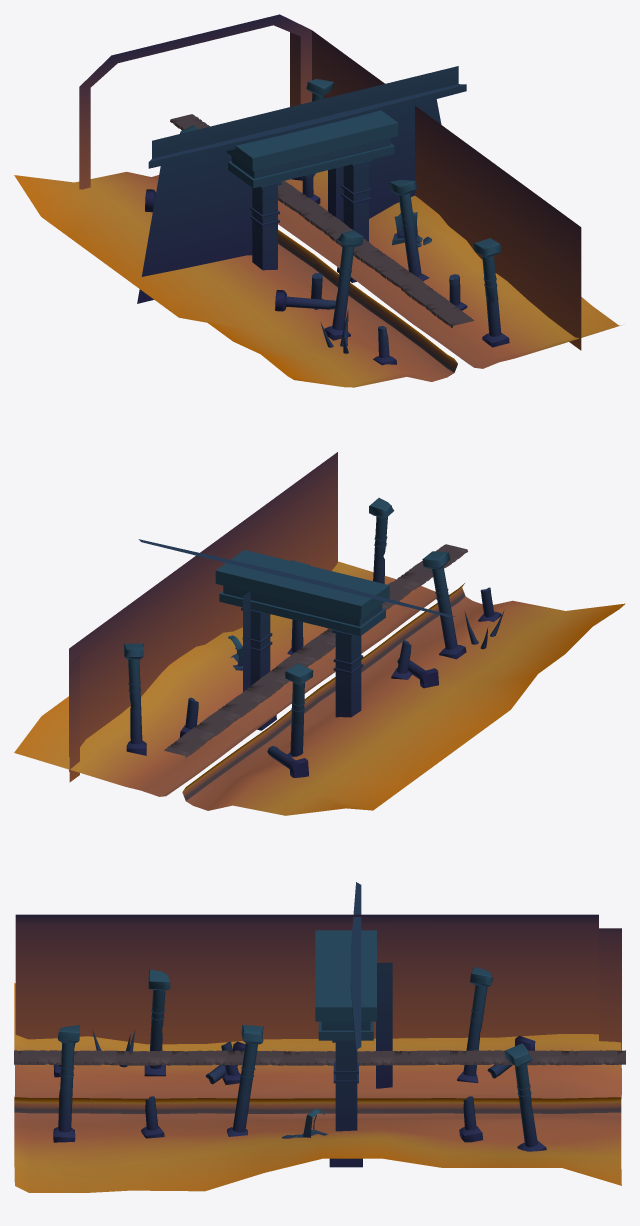
Rendered from stage2a.gltf.
3 views of the same model, one above another, from view 1: azimuth 30°, elevation 25°; view 2: azimuth 150°, elevation 25°; view 3: azimuth 270°, elevation 25° (orthographic). The views are drawn at different scales.
Parts seen in each view (by area): view 1: stage2a_GEO:PIV; view 2: stage2a_GEO:PIV; view 3: stage2a_GEO:PIV.
Part boxes in pixels (bbox=[...]): stage2a_GEO:PIV: bbox=[14, 14, 621, 387]; stage2a_GEO:PIV: bbox=[14, 452, 625, 815]; stage2a_GEO:PIV: bbox=[14, 882, 625, 1192].
Bounding box in the file's own units: 14294 × 7252 × 21000.
1 material, 1 textured.
